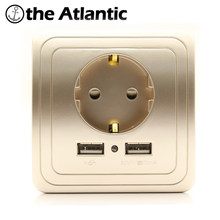raccoon: (74, 53, 154, 133)
